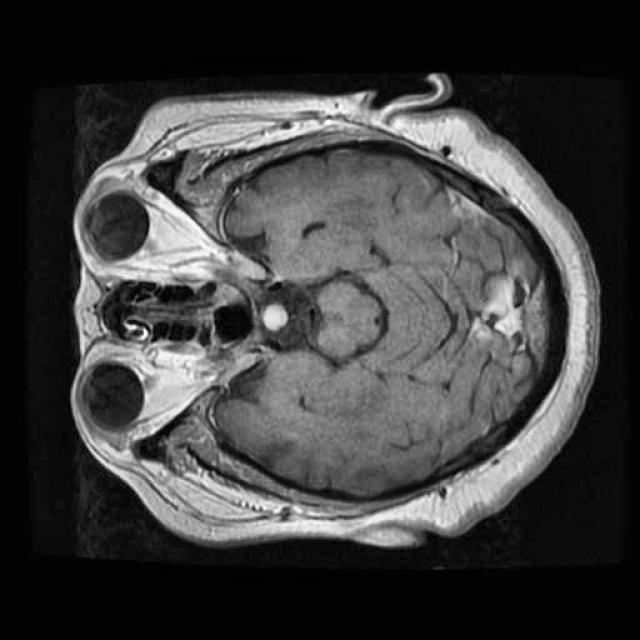Tumor: (253, 296, 299, 340)
